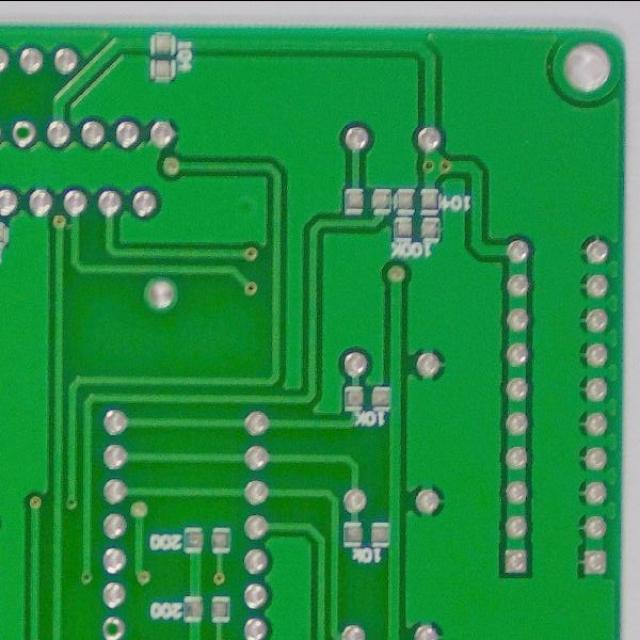missing_hole: (8, 116, 38, 150), (96, 615, 127, 639)
